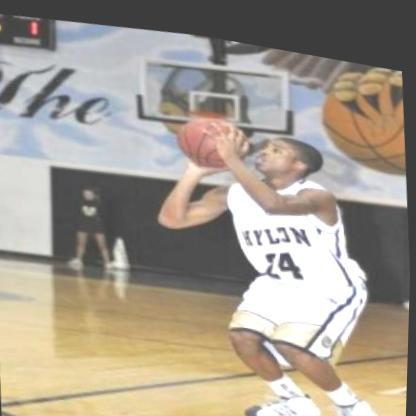basketball: (172, 98, 252, 171)
